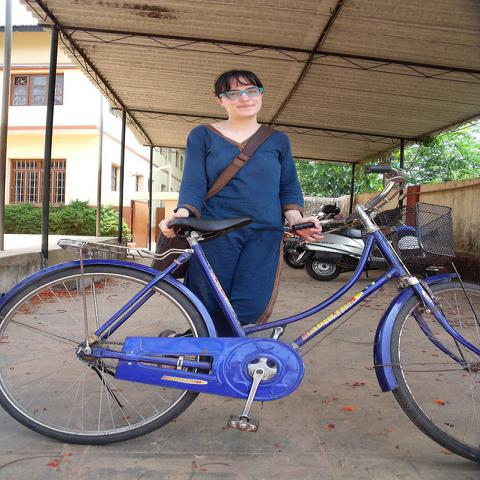motorcycle: (285, 226, 364, 284), (281, 232, 310, 270)
